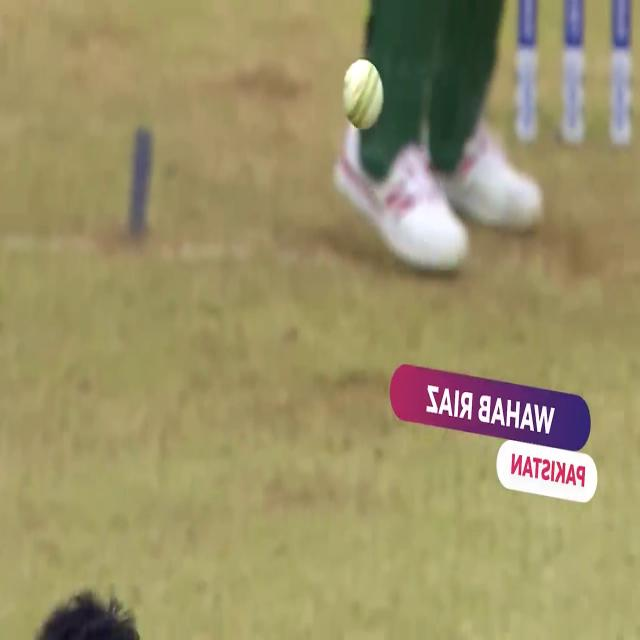ball: (340, 51, 388, 140)
